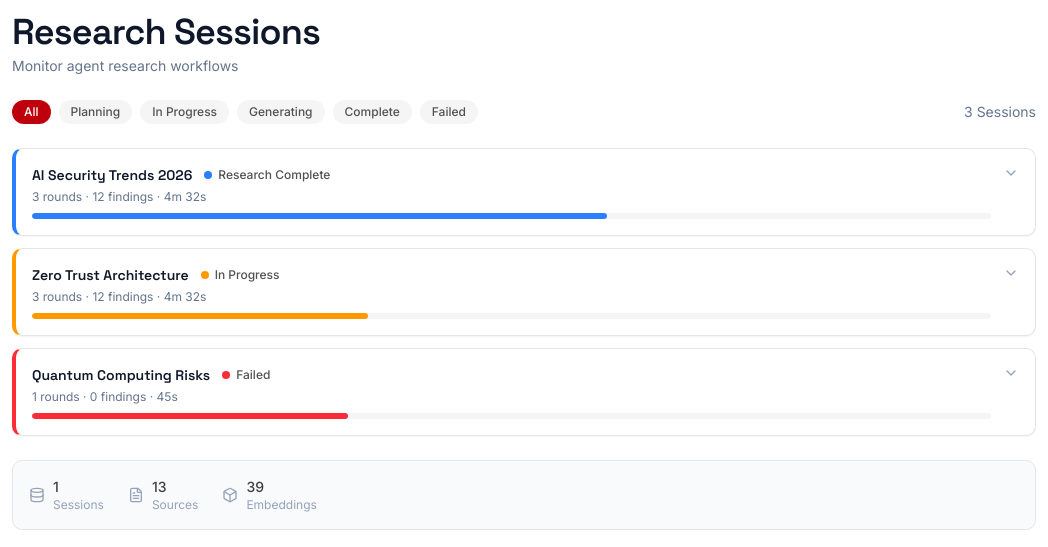
ResearchPage › filters sessions by status tab
Expected: the heading "AI Security Trends 2026" is shown, [32,165,192,185]
Click the button "Failed" at {"x": 449, "y": 112}, box [420,100,478,124]
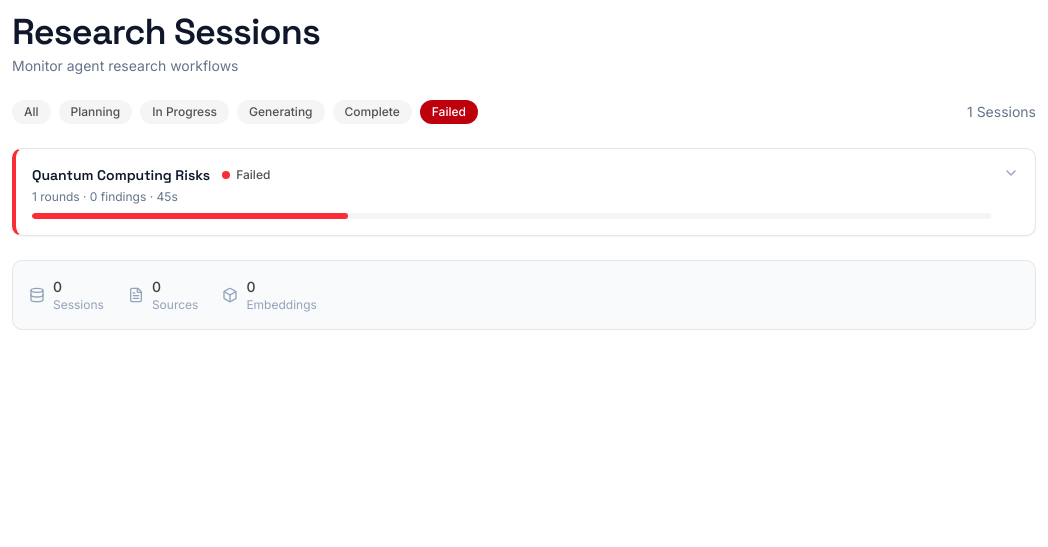
Expected: the heading "Quantum Computing Risks" is shown, [32,165,210,185]
Now the button "AI Security Trends 2026" is gone
